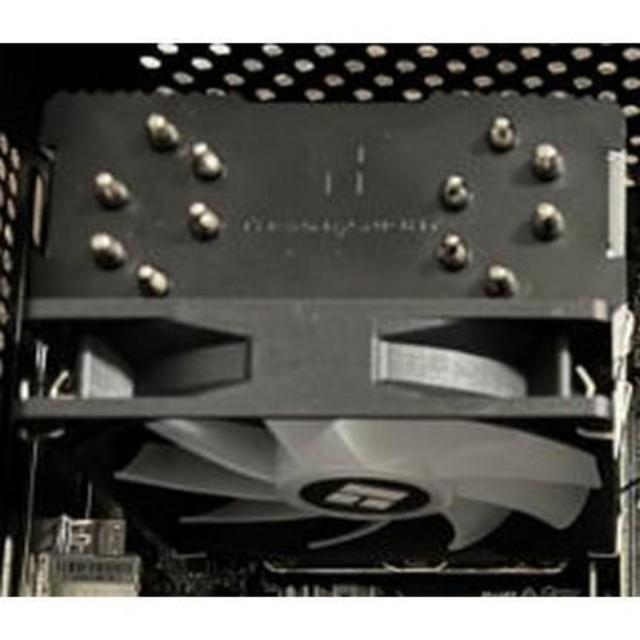CPU_Fan: (26, 71, 620, 574)
